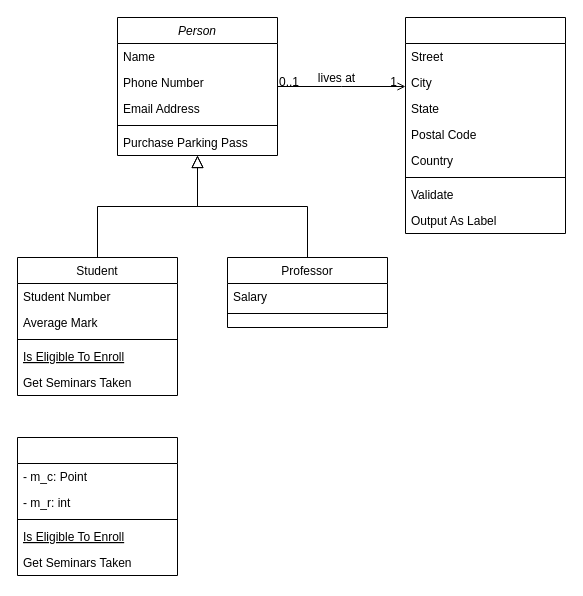
Image size: 583x596. Some labels were removed from this diagram. Here are the shapes that lost their labels. From the top down, the box of each, then its label:
(404, 16, 566, 234): Address
(16, 436, 178, 576): Circle
